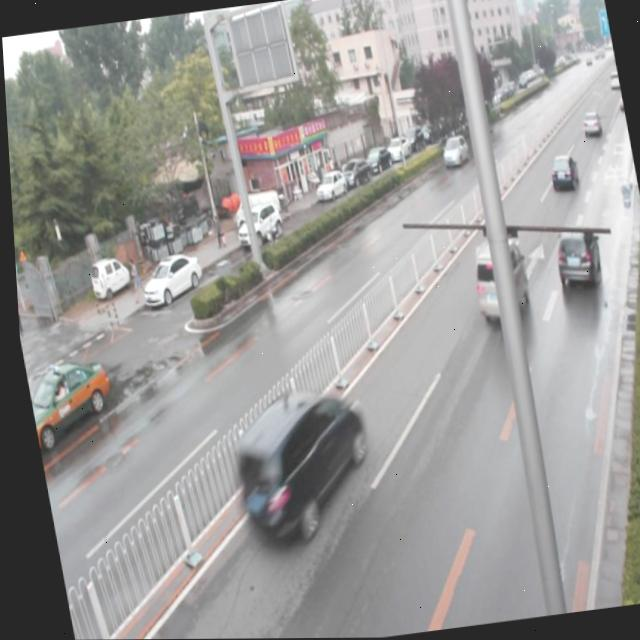car: (545, 221, 601, 295), (541, 153, 577, 194), (435, 131, 467, 170)
truck: (215, 383, 377, 551), (463, 237, 529, 328)
